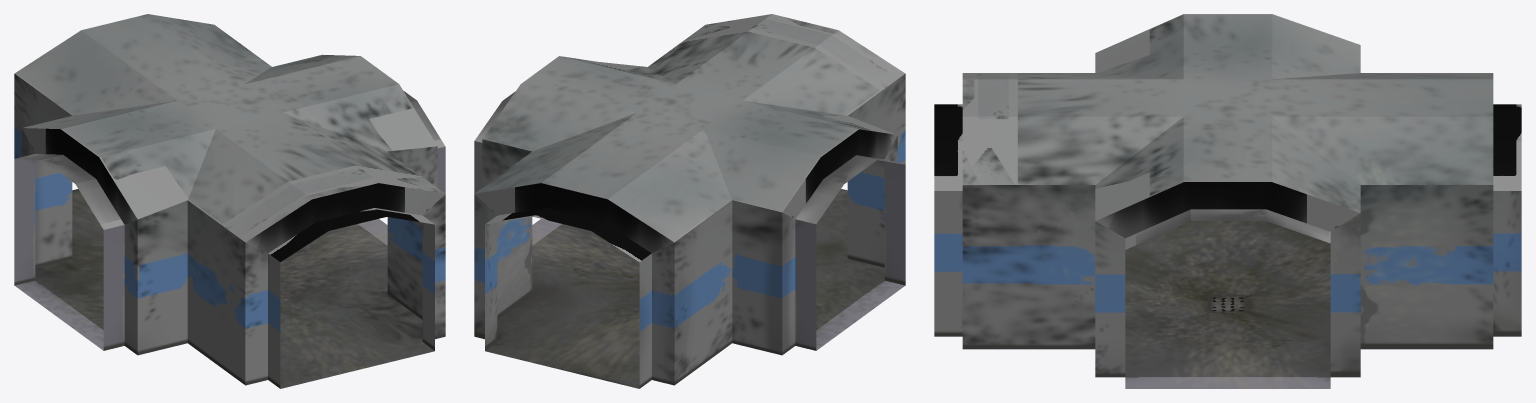
File: station.fbx
The picture shows the model from 3 angles, left to right: view 1: azimuth 30°, elevation 25°; view 2: azimuth 150°, elevation 25°; view 3: azimuth 270°, elevation 25°; orthographic projection. The views are drawn at different scales.
Parts seen in each view (by area): view 1: Cube; view 2: Cube; view 3: Cube.
Part boxes in pixels (left/top/right/bottom): Cube: left=14, top=14, right=445, bottom=388; Cube: left=474, top=14, right=905, bottom=388; Cube: left=934, top=14, right=1521, bottom=388.
Size of the model in its own units: 684 by 343 by 885.
